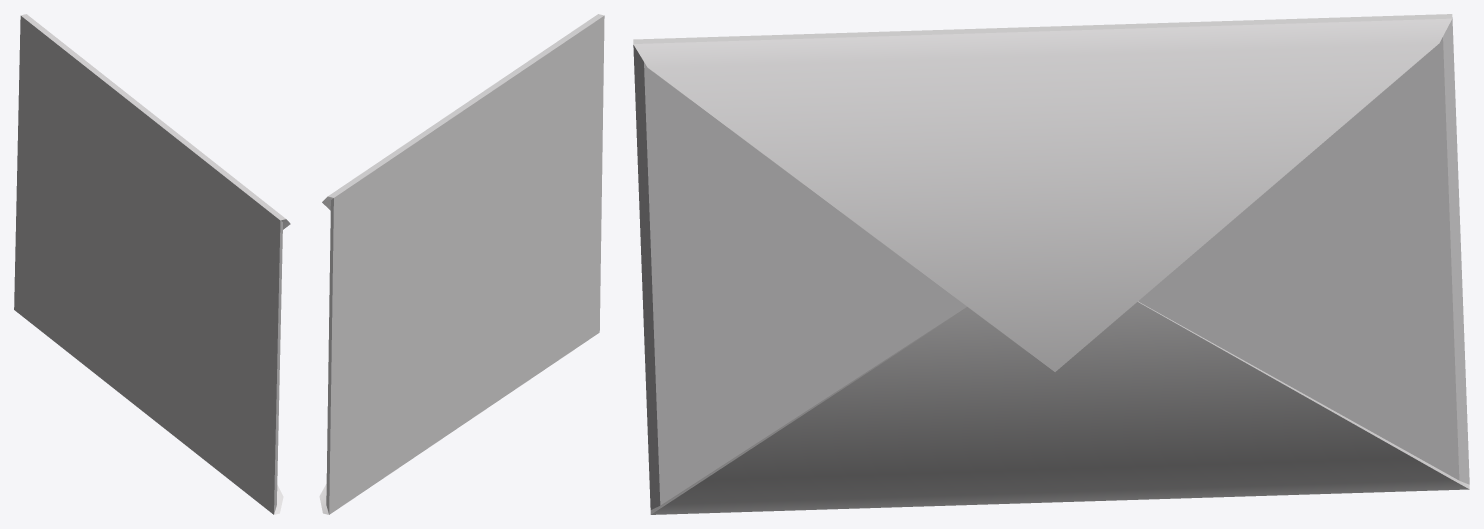
File: Letter.fbx
3 renders of one model, left to right at view 1: azimuth 30°, elevation 25°; view 2: azimuth 150°, elevation 25°; view 3: azimuth 270°, elevation 25°, orthographic. The views are drawn at different scales.
Parts seen in each view (by area): view 1: Letter; view 2: Letter; view 3: Letter.
Part boxes in pixels (left/top/right/bottom): Letter: left=14, top=14, right=290, bottom=514; Letter: left=319, top=14, right=604, bottom=514; Letter: left=633, top=14, right=1469, bottom=514.
Bounding box in the file's own units: 1.34 × 21.86 × 33.38.
